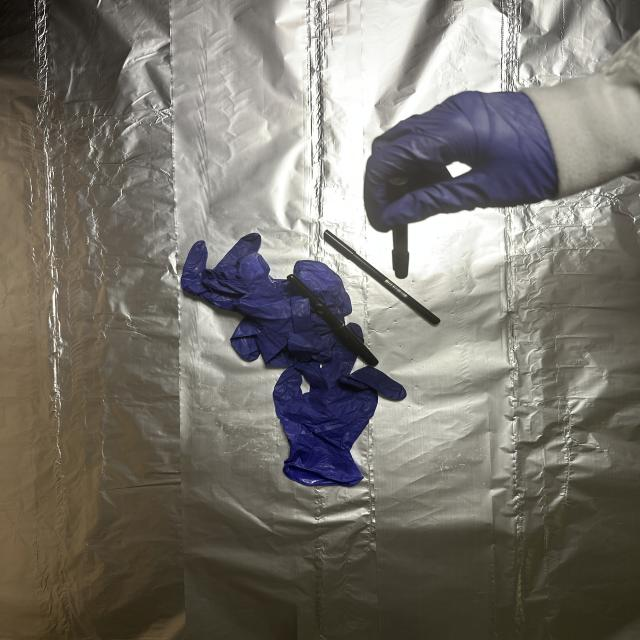gloves_contaminated: (364, 92, 558, 230)
